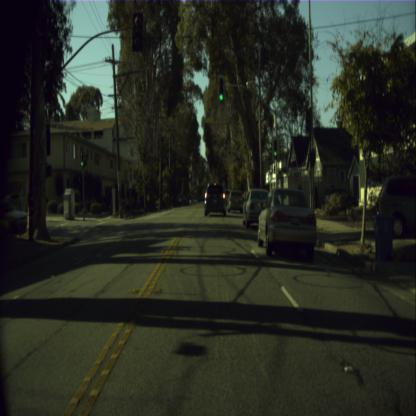Green: (216, 76, 224, 106), (272, 140, 278, 158)
off: (132, 10, 144, 52)
